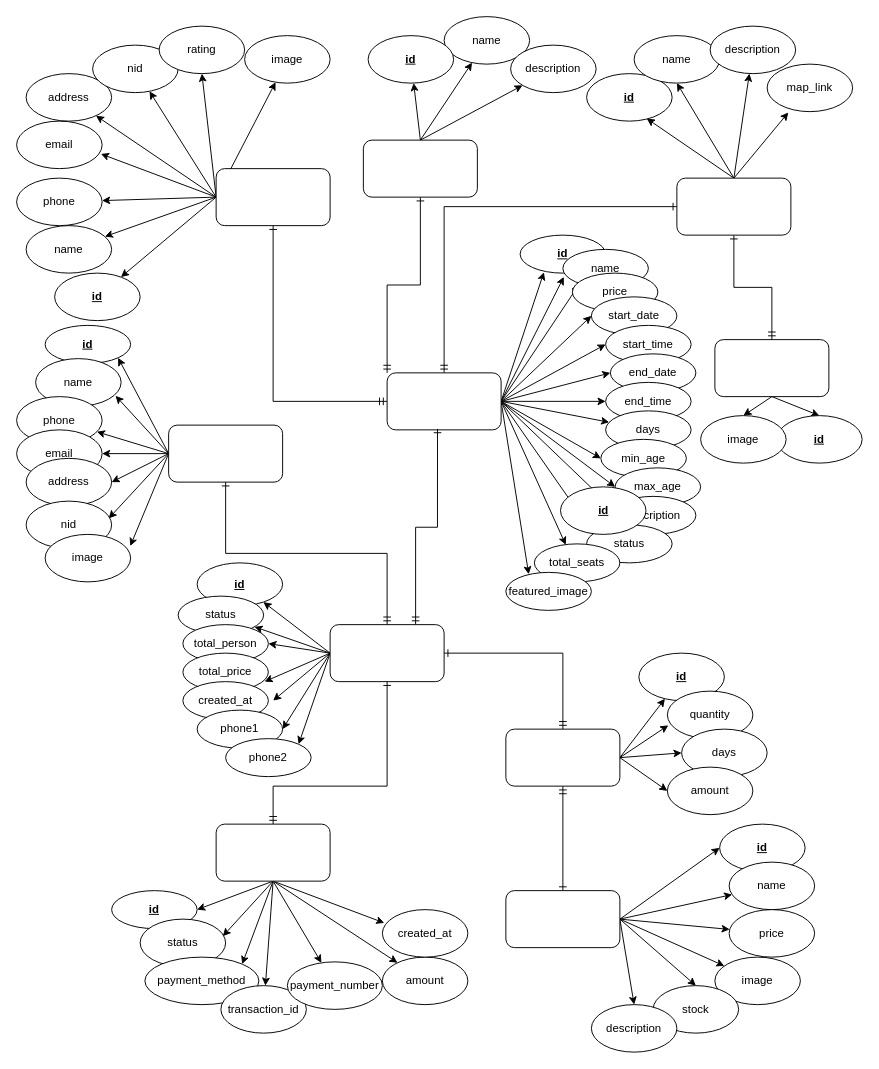
The diagram is 879 pixels wide and 1069 high, and some of its shapes have lost their labels. Here are the shapes that lost their labels. From the top down, the centre of each, then its label:
At pixel 419 168: "TourType".
At pixel 272 197: "Guide".
At pixel 733 206: "Place".
At pixel 771 368: "PlaceImage".
At pixel 443 401: "Tour".
At pixel 225 453: "User".
At pixel 386 653: "Booking".
At pixel 562 757: "Rent".
At pixel 272 852: "BookingPayment".
At pixel 562 919: "product".
